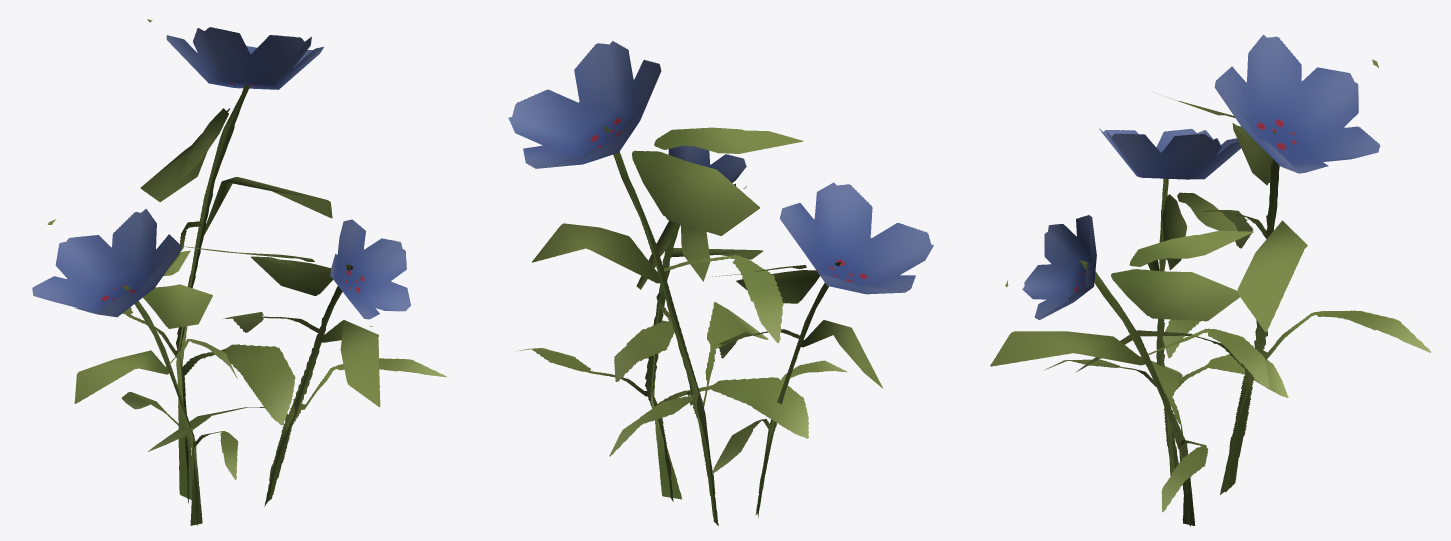
File: FlowerBlue.FBX
3 views of the same model, side by side, from view 1: azimuth 30°, elevation 25°; view 2: azimuth 150°, elevation 25°; view 3: azimuth 270°, elevation 25° (orthographic). The views are drawn at different scales.
Visible parts, largest first — view 1: SM_FlowerRod008; view 2: SM_FlowerRod008; view 3: SM_FlowerRod008.
Boxes of the visible parts, x1,y1,x2,y2 form: SM_FlowerRod008: (32, 19, 446, 525); SM_FlowerRod008: (508, 41, 933, 525); SM_FlowerRod008: (990, 35, 1431, 526).
Bounding box in the file's own units: 12.77 × 13.79 × 11.35.
